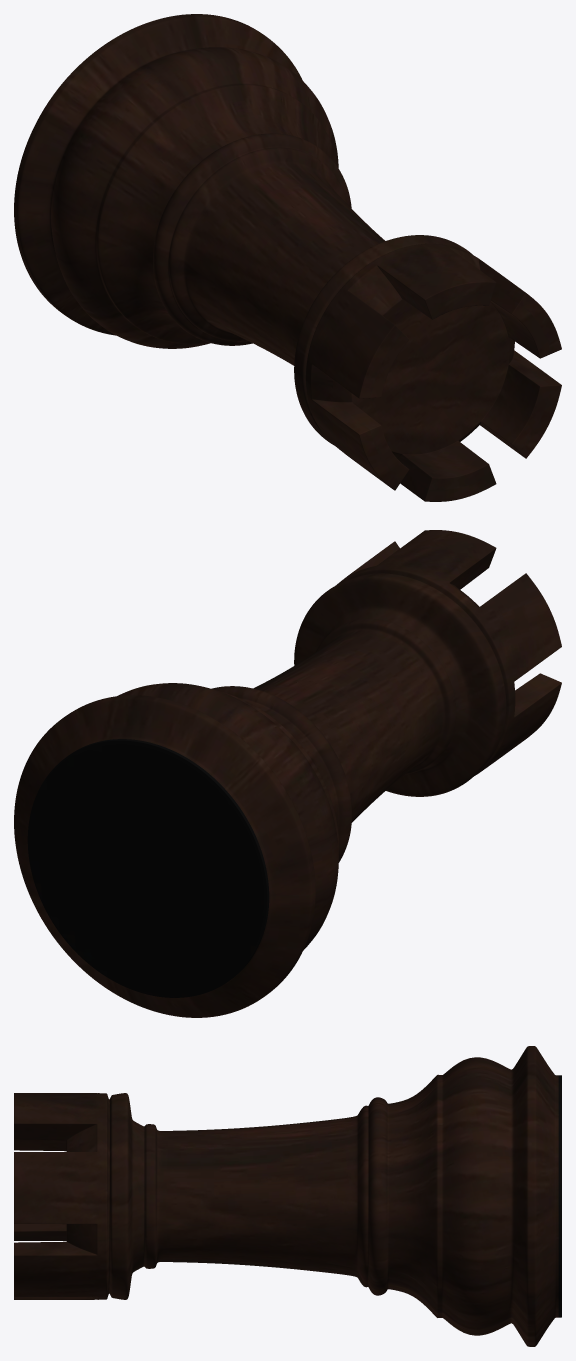
Rendered from rook.glb.
3 views of the same model, one above another, from view 1: azimuth 30°, elevation 25°; view 2: azimuth 150°, elevation 25°; view 3: azimuth 270°, elevation 25° (orthographic). The views are drawn at different scales.
Visible parts, largest first — view 1: Node1; view 2: Node1; view 3: Node1.
Boxes of the visible parts, x1,y1,x2,y2 form: Node1: (14, 14, 561, 501); Node1: (14, 530, 561, 1017); Node1: (14, 1046, 561, 1346).
Size of the model in its own units: 4.64 by 4.64 by 8.46.
Materials: 1 (1 with a texture image).
